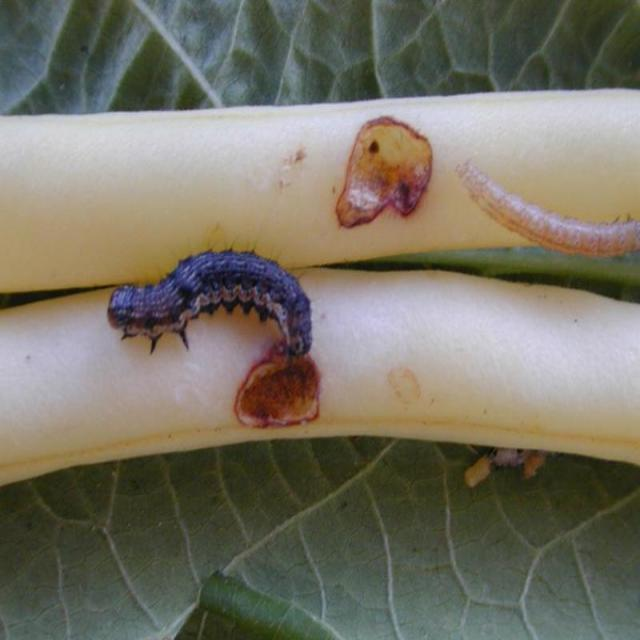Corn-earworm: (105, 247, 314, 355), (457, 155, 640, 266)
